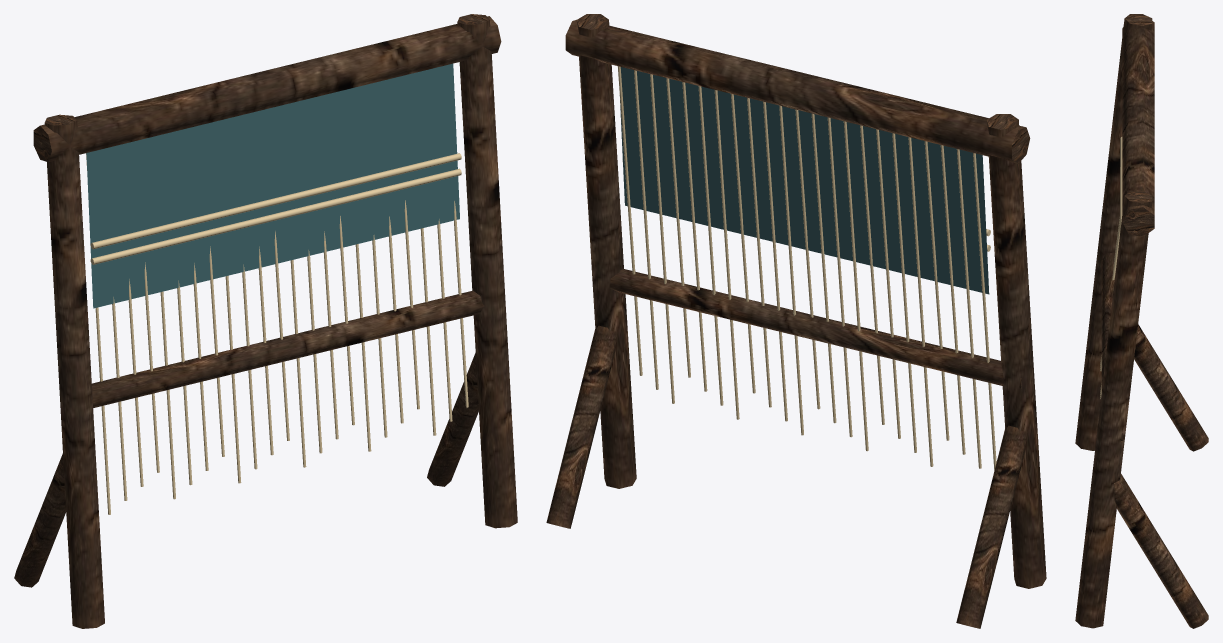
The model's file is loom.glb.
3 views of the same model, side by side, from view 1: azimuth 30°, elevation 25°; view 2: azimuth 150°, elevation 25°; view 3: azimuth 270°, elevation 25° (orthographic). The views are drawn at different scales.
Visible parts, largest first — view 1: part_0, part_2, part_1; view 2: part_0, part_2, part_1; view 3: part_0, part_1.
Part boxes in pixels (<box>): part_0: <box>14,14,517,628</box>; part_2: <box>86,63,459,308</box>; part_1: <box>86,153,468,514</box>; part_0: <box>546,14,1046,628</box>; part_2: <box>619,67,989,294</box>; part_1: <box>617,66,996,470</box>; part_0: <box>1075,14,1208,628</box>; part_1: <box>1100,137,1122,398</box>.
Bounding box in the file's own units: 1.21 × 1.26 × 0.3524.
Materials: 3 (1 with a texture image).
